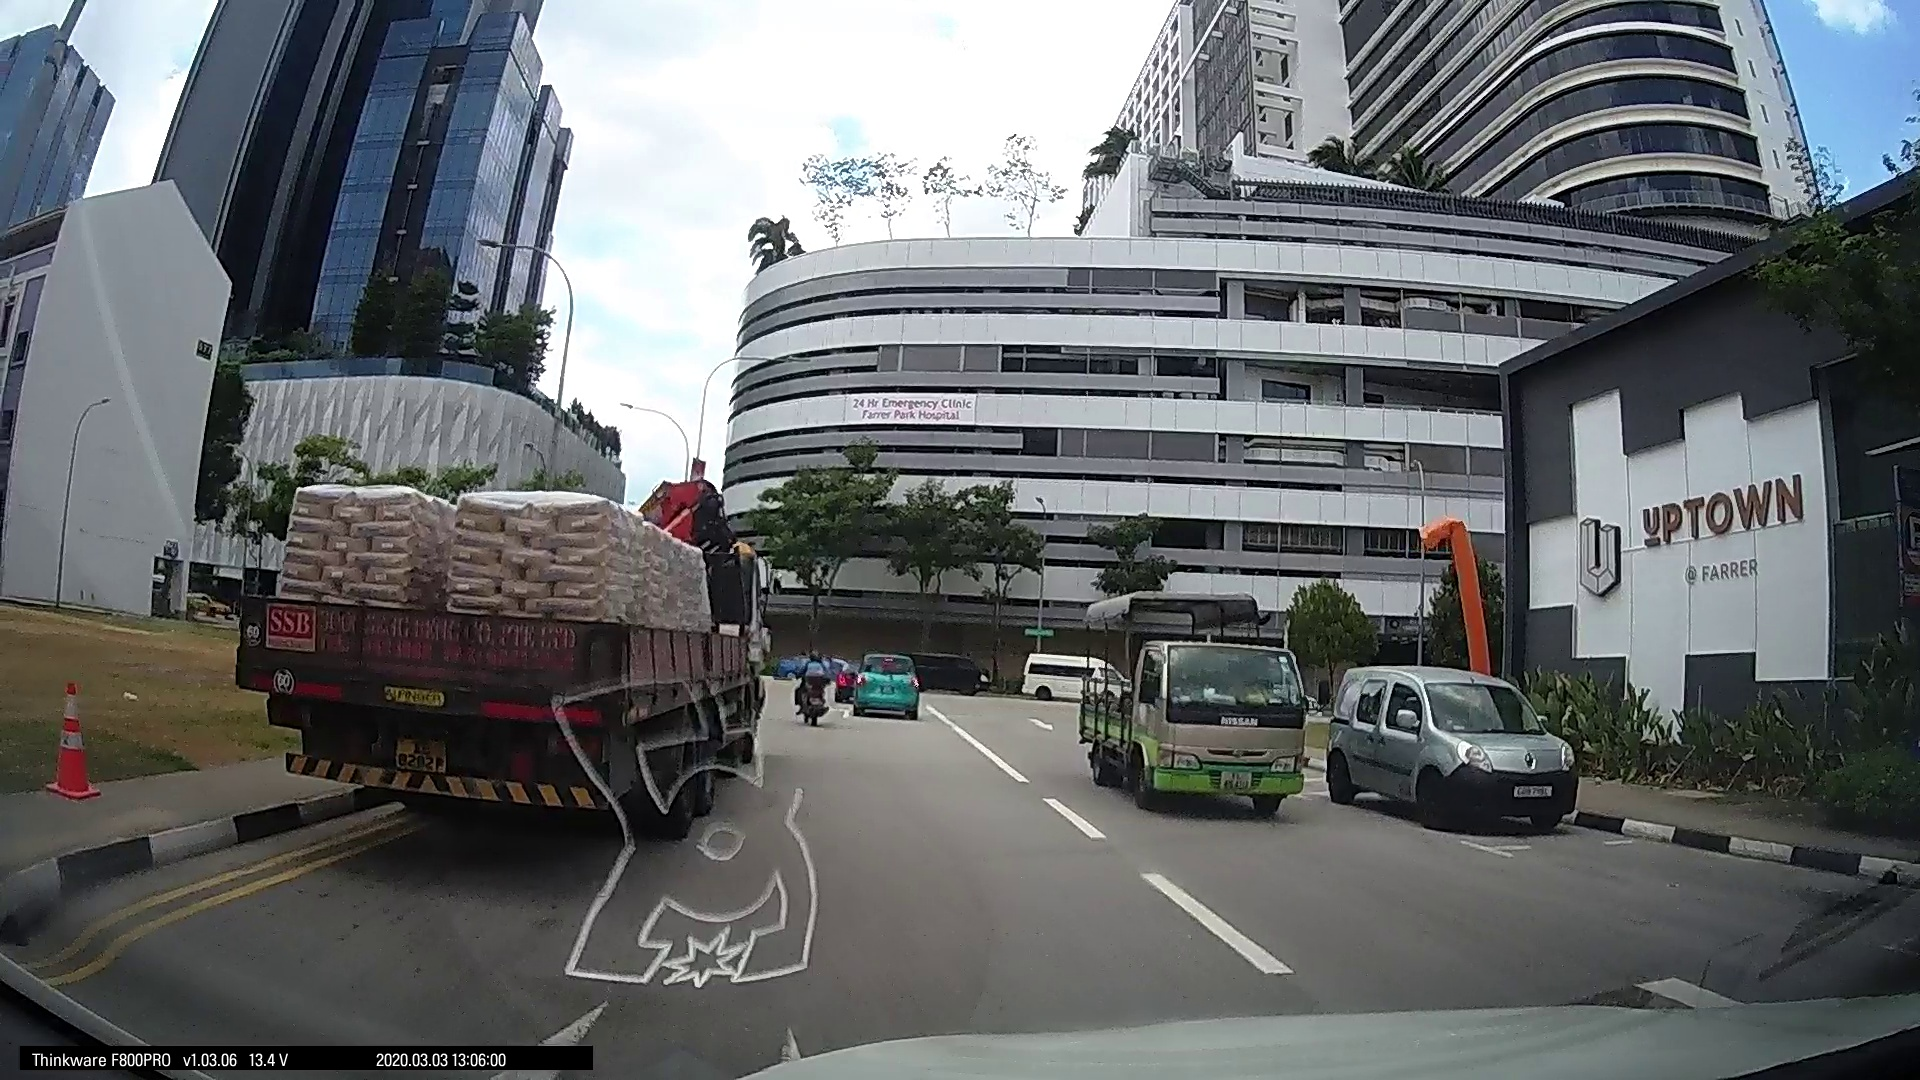Heavy Vehicle: (741, 531, 945, 765), (1316, 624, 1460, 764)
Light Vehicle: (7, 611, 633, 989), (564, 636, 794, 827), (1029, 647, 1084, 698), (1139, 651, 1191, 704)
